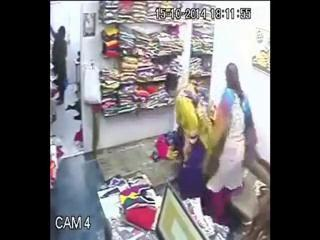shoplifting: (199, 78, 250, 199)
